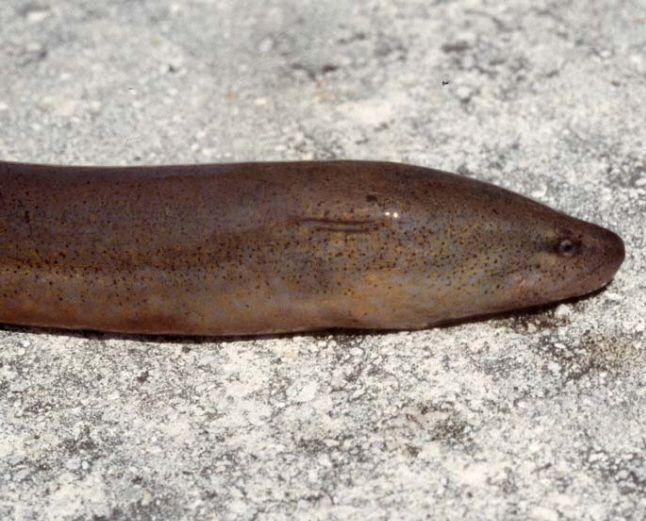Freshwater Eel: (2, 143, 626, 344)
